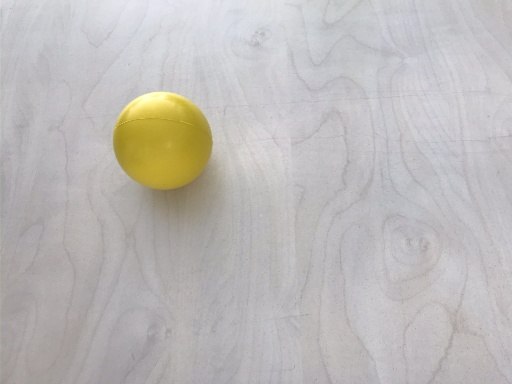Palla: (110, 90, 217, 195)
